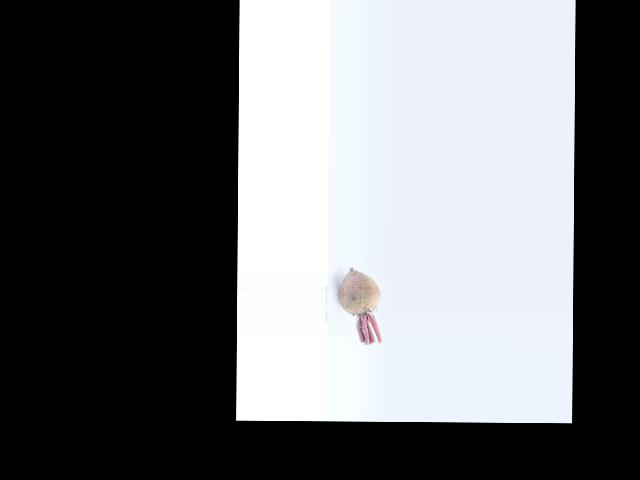beet: (338, 268, 381, 343)
